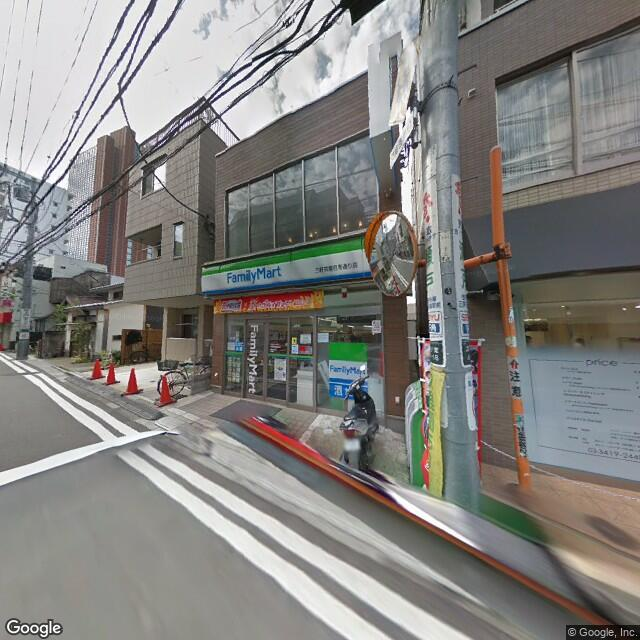family_mart: (199, 232, 371, 305), (321, 340, 370, 386), (243, 319, 261, 395)
